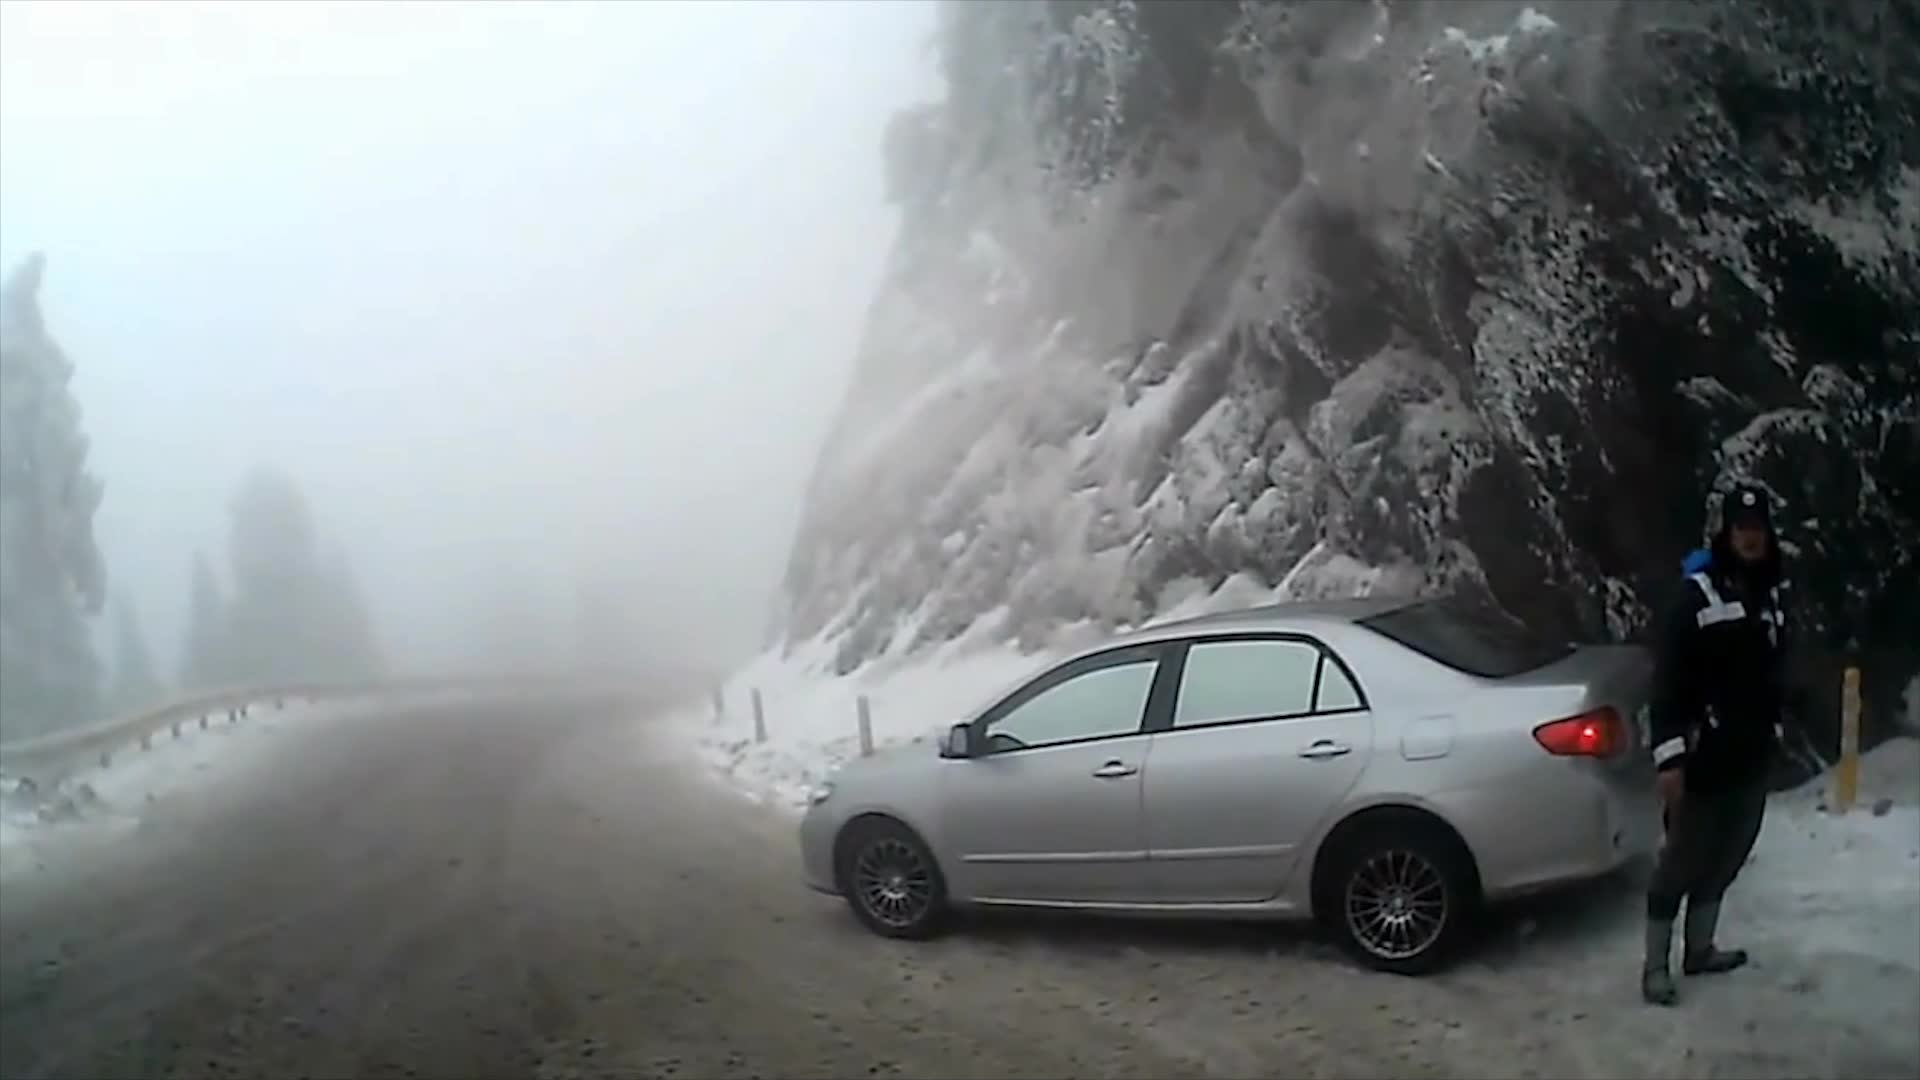pedestrian: (1645, 477, 1800, 1002)
vehicle: (800, 594, 1721, 976)
